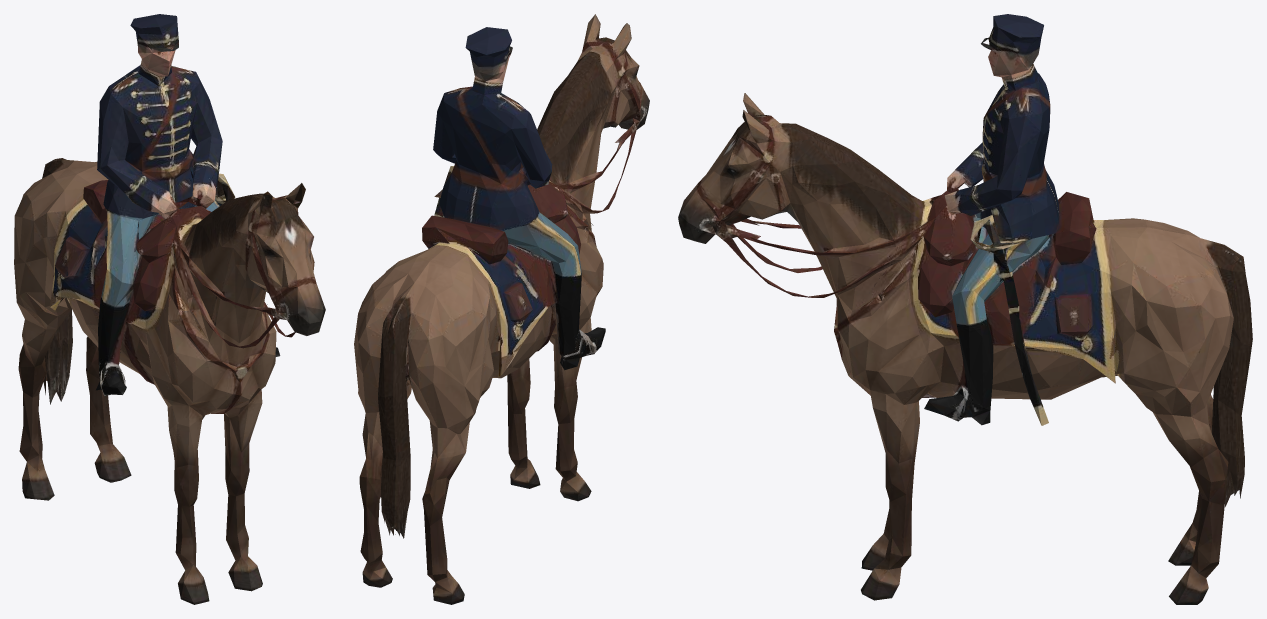
The model's file is realistic-cc0.f77cec64a90b.cavalry.glb.
3 renders of one model, left to right at view 1: azimuth 30°, elevation 25°; view 2: azimuth 150°, elevation 25°; view 3: azimuth 270°, elevation 25°, orthographic. The views are drawn at different scales.
Parts seen in each view (by area): view 1: cavalry; view 2: cavalry; view 3: cavalry.
Part boxes in pixels (x1,y1,x2,y2): cavalry: [14, 14, 325, 604]; cavalry: [354, 14, 649, 604]; cavalry: [678, 14, 1252, 604].
Bounding box in the file's own units: 0.842 × 2.5 × 2.33.
Materials: 1 (1 with a texture image).
